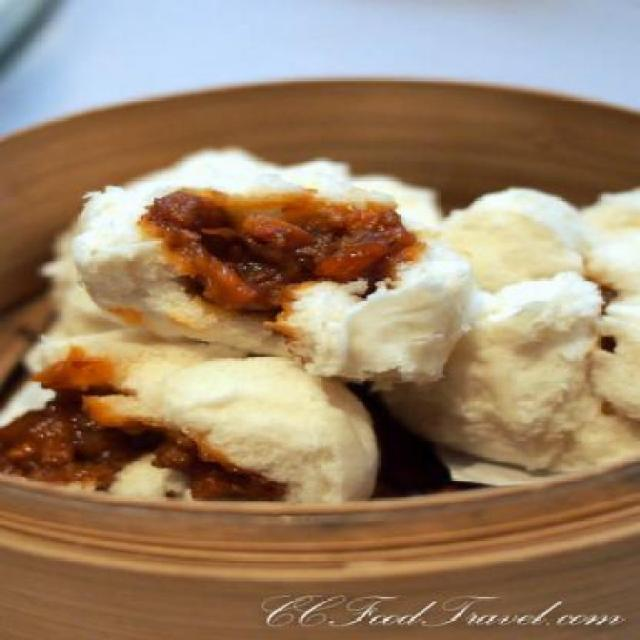Ice cream: (20, 109, 586, 508), (370, 190, 639, 464)
